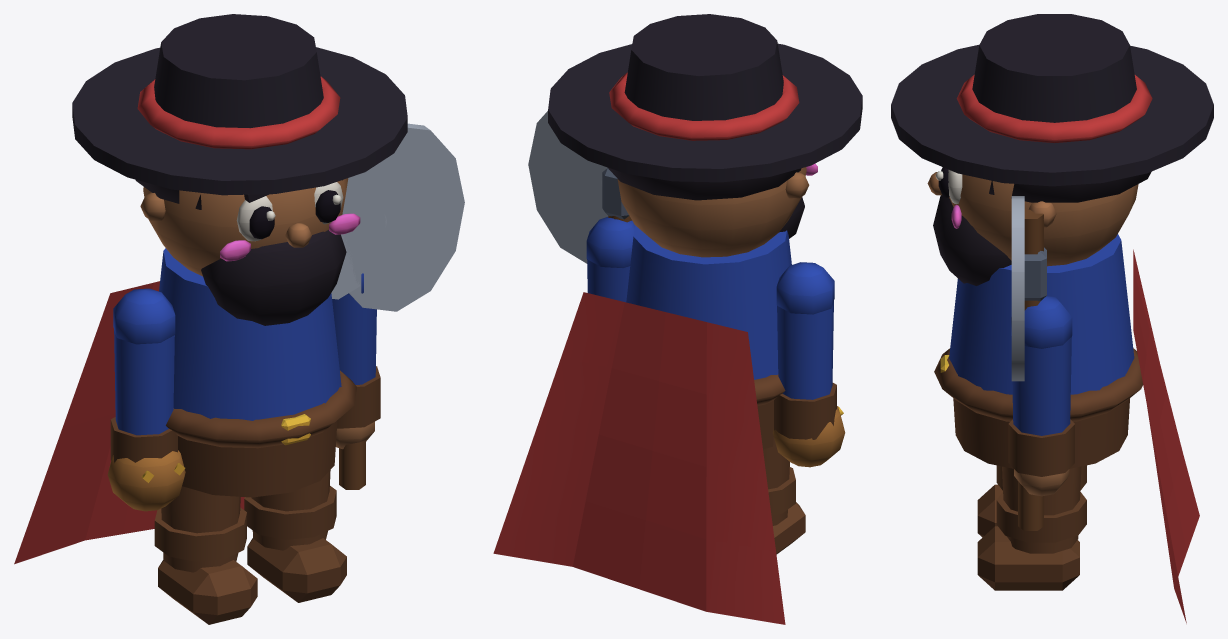
File: hero_kraken.glb
3 views of the same model, side by side, from view 1: azimuth 30°, elevation 25°; view 2: azimuth 150°, elevation 25°; view 3: azimuth 270°, elevation 25° (orthographic). The views are drawn at different scales.
Parts seen in each view (by area): view 1: body_t0_palette, armr_t0_palette, arml_t0_palette, legl_t0_palette, legr_t0_palette; view 2: body_t0_palette, arml_t0_palette, armr_t0_palette, legl_t0_palette; view 3: body_t0_palette, armr_t0_palette, legr_t0_palette, legl_t0_palette.
Part boxes in pixels (box(x1,y1,x2,y2)): body_t0_palette: box(14, 14, 407, 564); armr_t0_palette: box(331, 123, 464, 489); arml_t0_palette: box(107, 288, 185, 511); legl_t0_palette: box(154, 486, 257, 624); legr_t0_palette: box(244, 470, 346, 602); body_t0_palette: box(493, 14, 862, 624); arml_t0_palette: box(773, 262, 845, 467); armr_t0_palette: box(528, 111, 635, 302); legl_t0_palette: box(763, 437, 805, 554); body_t0_palette: box(891, 14, 1213, 623); armr_t0_palette: box(1008, 196, 1074, 530); legr_t0_palette: box(977, 466, 1086, 590); legl_t0_palette: box(977, 465, 1086, 537).
Size of the model in its own units: 0.369 by 0.53 by 0.3.
